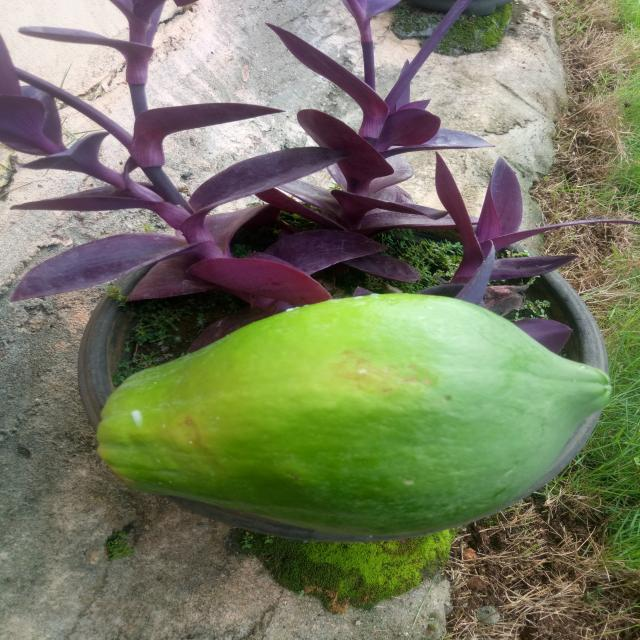Pepaya unrippen: (95, 287, 614, 530)
